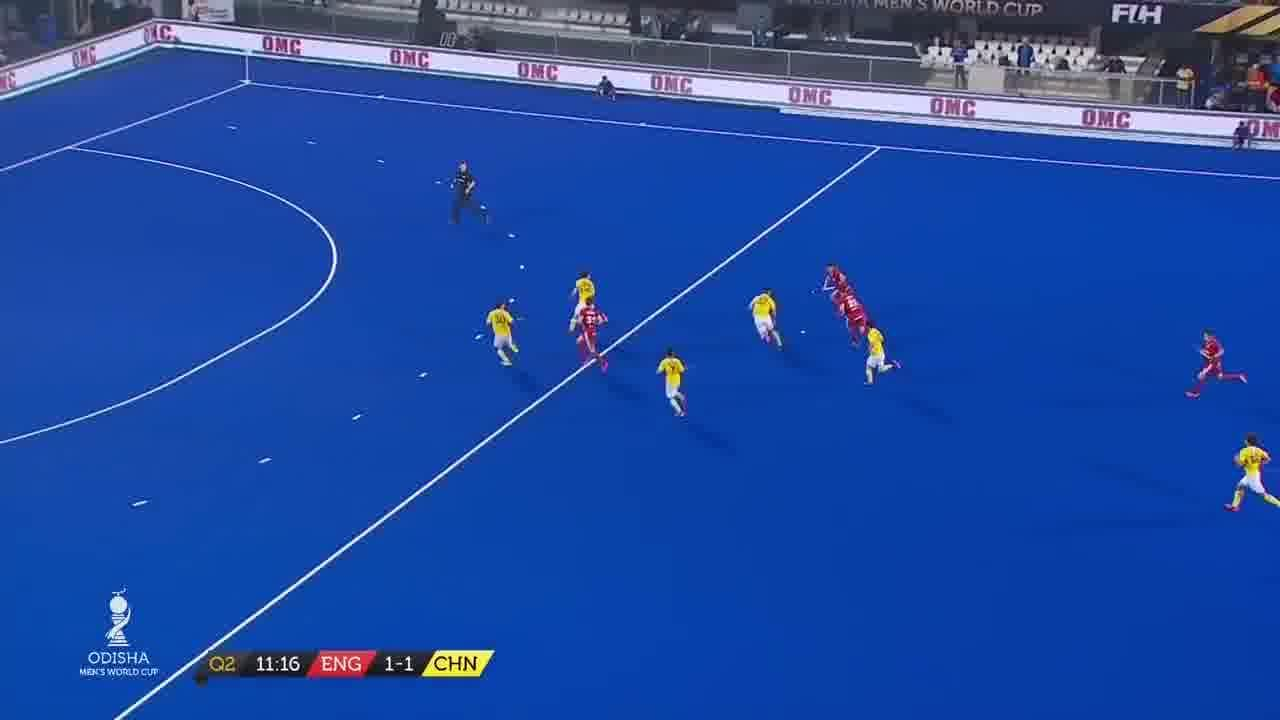ball: (794, 322, 814, 338)
